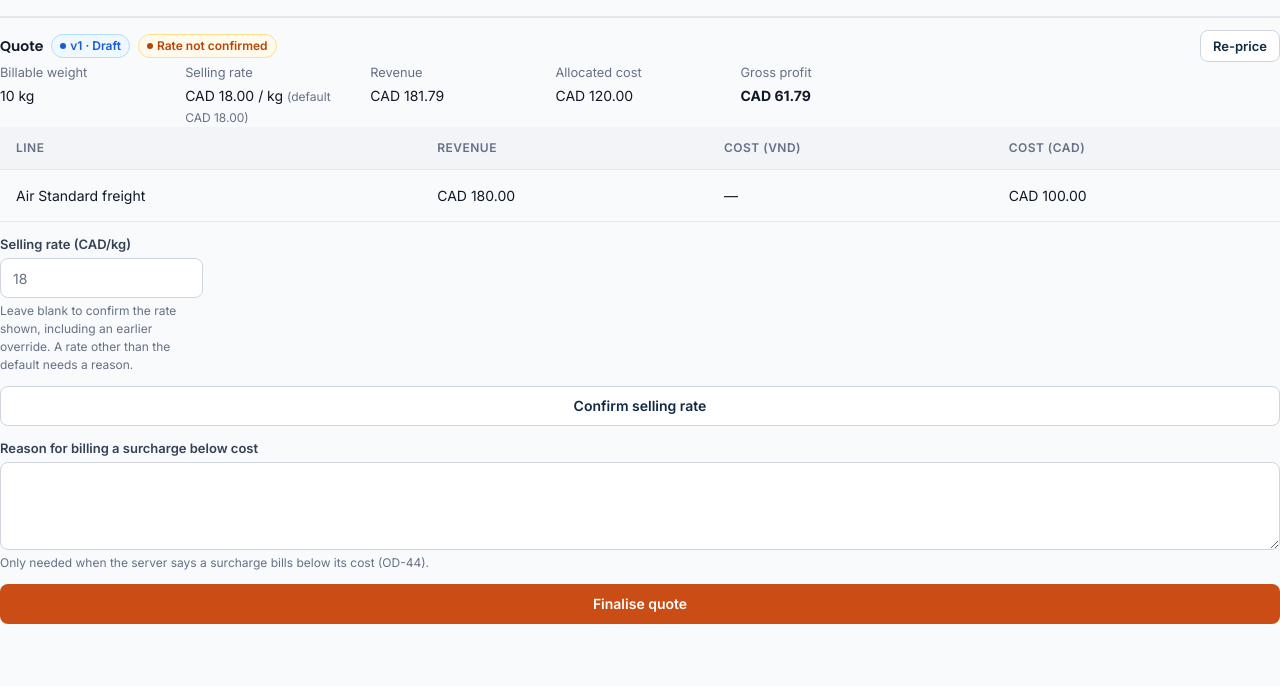
Test: QuotePanel › renders the server’s problems on a refused finalise
Click the button "Finalise quote".
click(640, 604)  # box [0,584,1279,624]
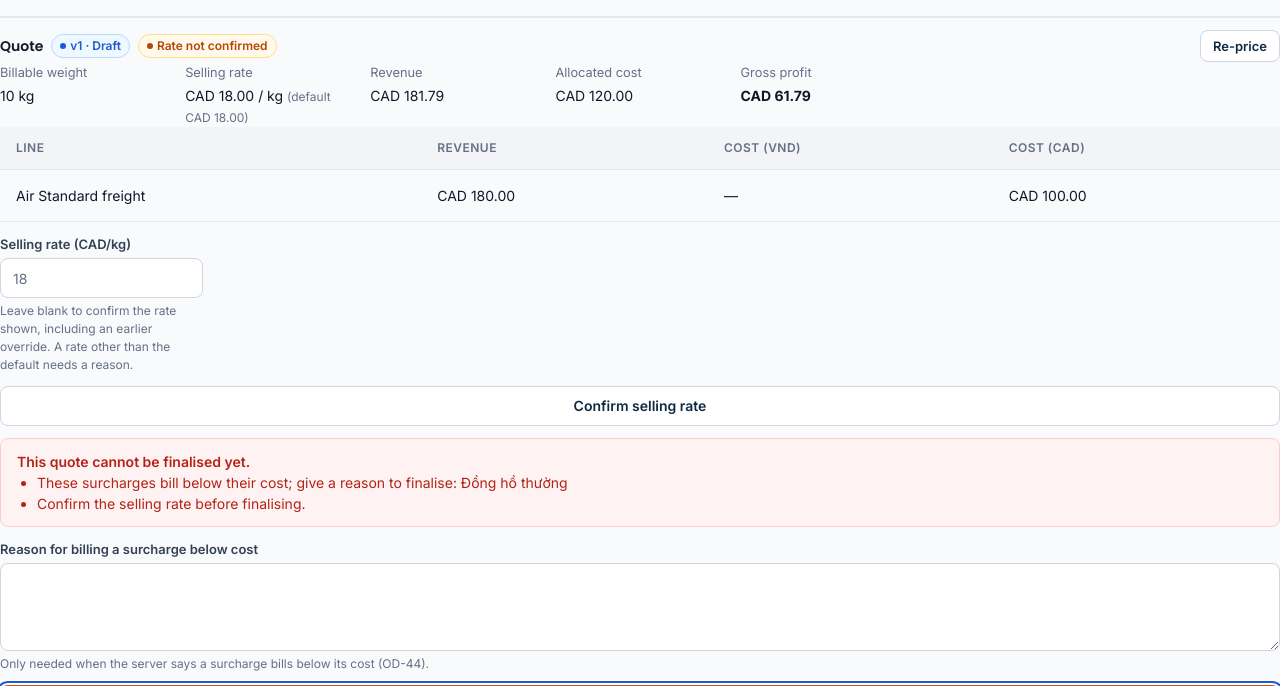
Expected: the text "This quote cannot be finalised yet." is shown, [17,453,250,470]
Expected: the list item "bill below their cost; give a reason to finalise: Đồng hồ thường" is shown, [37,474,568,491]
Expected: the list item "Confirm the selling rate before finalising." is shown, [37,495,306,512]
